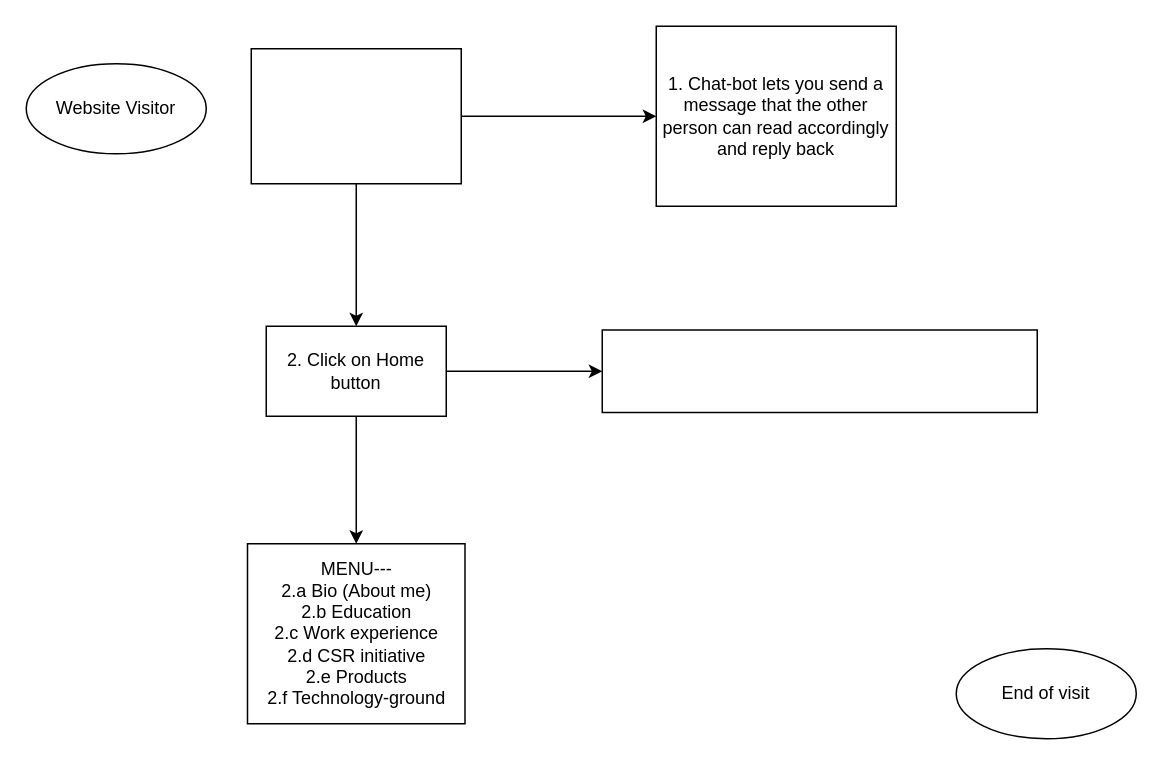
This 1163x765 diagram has some shape labels left out. The shapes that lost their labels are listed below. From the top down, each one's centre as x and y in pixels, then its label:
At point (355, 115): "Website has 2 options: 1. Chat-Bot 2. Go to home".
At point (819, 370): "SOCIAL LINKS--- 1. LinkedIn 2. Github 3. VK.com".
